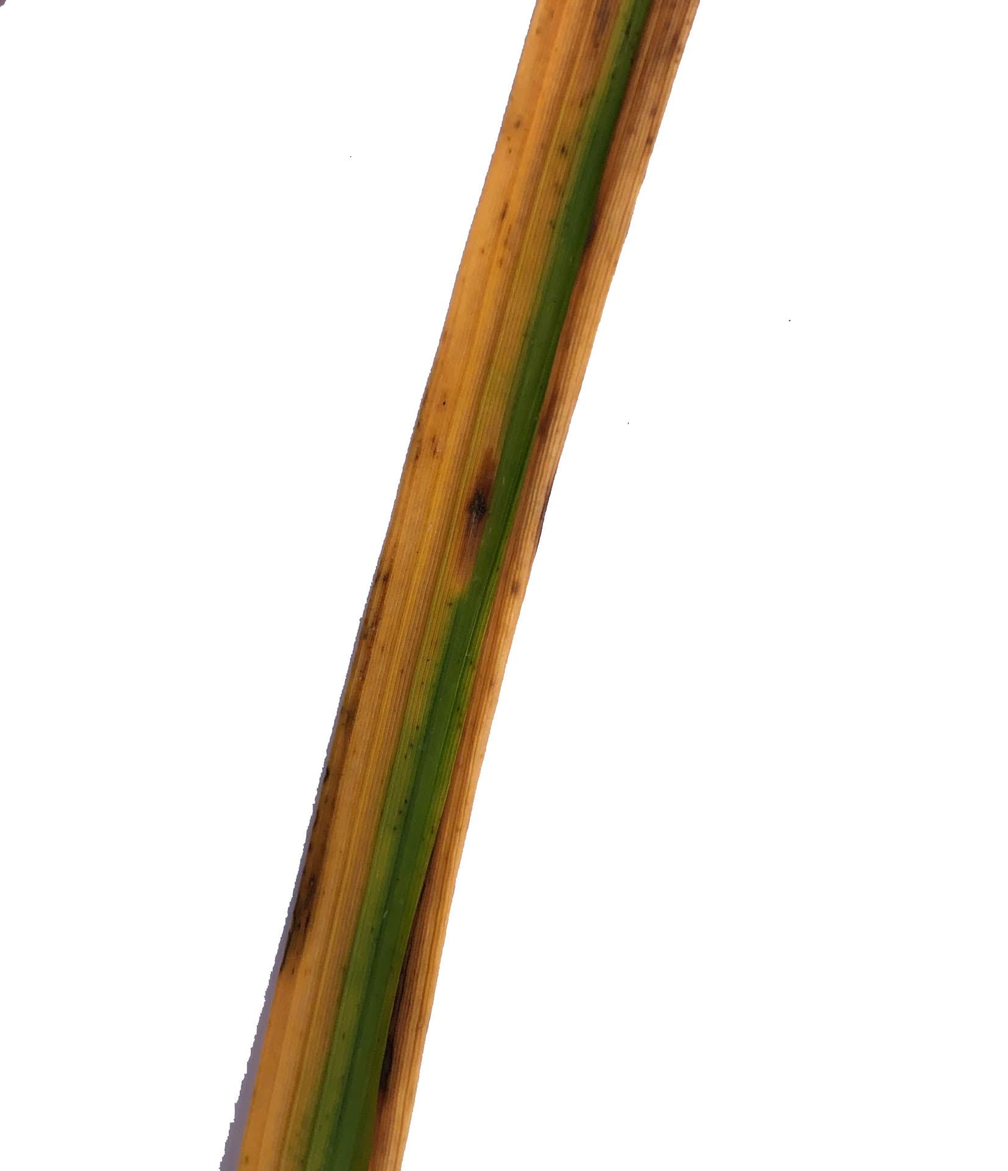Rice blast: (254, 774, 333, 943), (455, 440, 512, 586)
Tungro: (441, 5, 699, 369), (223, 983, 341, 1171), (333, 648, 384, 965), (392, 355, 447, 642)
